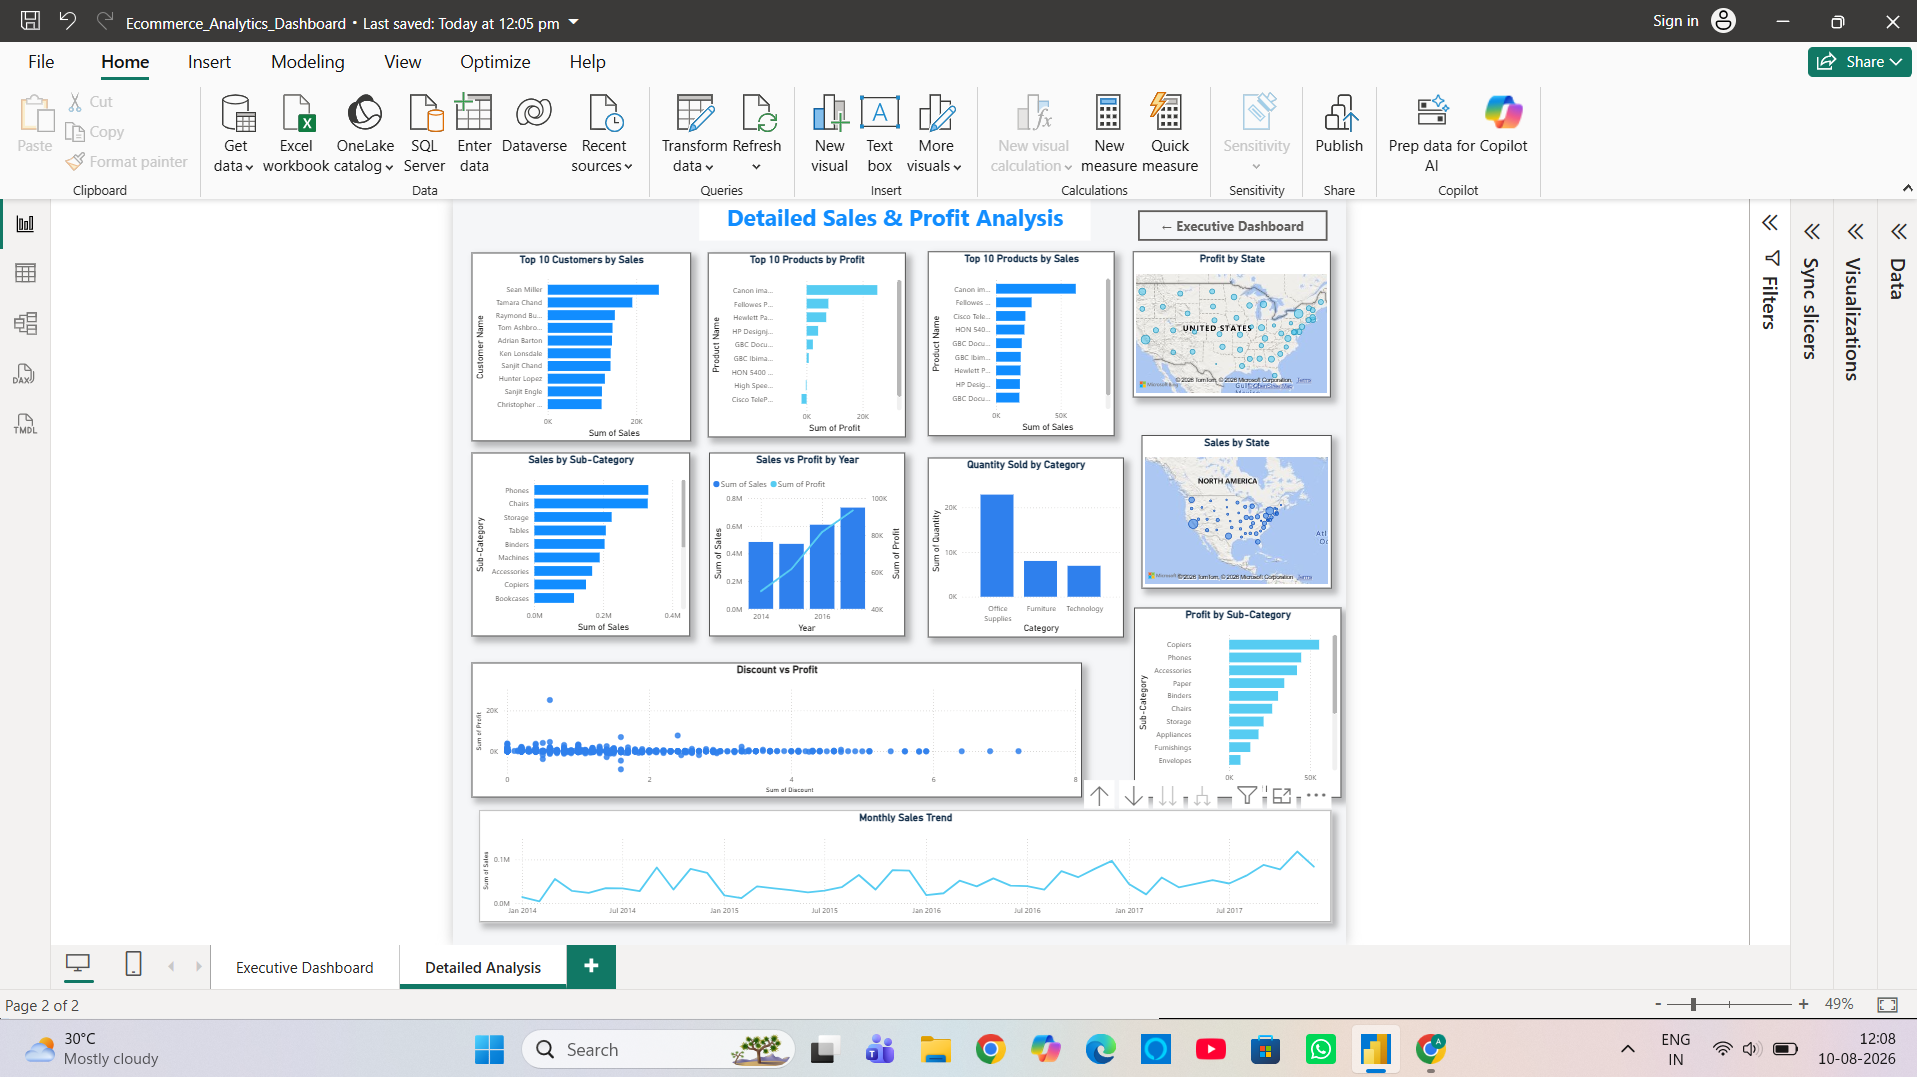

This screenshot's page, from the dashboard's own definition file:
{"tool":"powerbi","page":{"name":"Detailed Analysis","canvas":[1460,1220],"ordinal":1},"visuals":[{"type":"clusteredBarChart","title":"Top 10 Products by Profit","fields":{"Category":["Superstore.Product Name"],"Y":["Sum(Superstore.Profit)"]},"box":[417.5,87.5,323.3,301.7],"z":0},{"type":"clusteredBarChart","title":"Top 10 Customers by Sales","fields":{"Category":["Superstore.Customer Name"],"Y":["Sum(Superstore.Sales)"]},"box":[30,87.5,358.3,308.3],"z":1000},{"type":"clusteredBarChart","title":"Top 10 Products by Sales","fields":{"Category":["Superstore.Product Name"],"Y":["Sum(Superstore.Sales)"]},"box":[777.5,85,305,301.7],"z":2000},{"type":"barChart","title":"Sales by Sub-Category","fields":{"Category":["Superstore.Sub-Category"],"Y":["Sum(Superstore.Sales)"]},"box":[30,415,356.7,300],"z":3000},{"type":"barChart","title":"Profit by Sub-Category","fields":{"Category":["Superstore.Sub-Category"],"Y":["Sum(Superstore.Profit)"]},"box":[1113.3,668.3,338.3,310],"z":4000},{"type":"clusteredColumnChart","title":"Quantity Sold by Category","fields":{"Category":["Superstore.Category"],"Y":["Sum(Superstore.Quantity)"]},"box":[777.5,422.5,320,293.3],"z":5000},{"type":"map","title":"Sales by State","fields":{"Size":["Sum(Superstore.Sales)"],"Category":["Superstore.State"]},"box":[1126.7,386.7,310,250],"z":6000},{"type":"map","title":"Profit by State","fields":{"Size":["Sum(Superstore.Profit)"],"Category":["Superstore.State"]},"box":[1112.5,85,323.3,238.3],"z":7000},{"type":"scatterChart","title":"Discount vs Profit","fields":{"X":["Sum(Superstore.Discount)"],"Y":["Sum(Superstore.Profit)"],"Category":["Superstore.Product Name"]},"box":[30,757.5,997.5,220],"z":8000},{"type":"lineChart","title":"Monthly Sales Trend","fields":{"Y":["Sum(Superstore.Sales)"],"Category":["Superstore.Order Date.Variation.Date Hierarchy.Year","Superstore.Order Date.Variation.Date Hierarchy.Month"]},"box":[42.9,999.6,1393.3,183.3],"z":9000},{"type":"lineClusteredColumnComboChart","title":"Sales vs Profit by Year","fields":{"Category":["Superstore.Order Date.Variation.Date Hierarchy.Year"],"Y":["Sum(Superstore.Sales)"],"Y2":["Sum(Superstore.Profit)"]},"box":[420,415,320,300],"z":10000},{"type":"textbox","box":[402,0,640,68],"z":11000},{"type":"actionButton","title":"← Executive Dashboard","box":[1120,18.3,310,50],"z":12000}]}

Visuals, with their boxes on the page's 1460x1220 design canvas (x1, y1, x2, y2). These are canvas units, not pixel positions in the 1917x1077 screenshot, which may show the page scaled, cropped or inside an application window:
"Top 10 Products by Profit" clusteredBarChart: x1=418 y1=88 x2=741 y2=389
"Top 10 Customers by Sales" clusteredBarChart: x1=30 y1=88 x2=388 y2=396
"Top 10 Products by Sales" clusteredBarChart: x1=778 y1=85 x2=1082 y2=387
"Sales by Sub-Category" barChart: x1=30 y1=415 x2=387 y2=715
"Profit by Sub-Category" barChart: x1=1113 y1=668 x2=1452 y2=978
"Quantity Sold by Category" clusteredColumnChart: x1=778 y1=422 x2=1098 y2=716
"Sales by State" map: x1=1127 y1=387 x2=1437 y2=637
"Profit by State" map: x1=1112 y1=85 x2=1436 y2=323
"Discount vs Profit" scatterChart: x1=30 y1=758 x2=1028 y2=978
"Monthly Sales Trend" lineChart: x1=43 y1=1000 x2=1436 y2=1183
"Sales vs Profit by Year" lineClusteredColumnComboChart: x1=420 y1=415 x2=740 y2=715
textbox: x1=402 y1=0 x2=1042 y2=68
"← Executive Dashboard" actionButton: x1=1120 y1=18 x2=1430 y2=68
